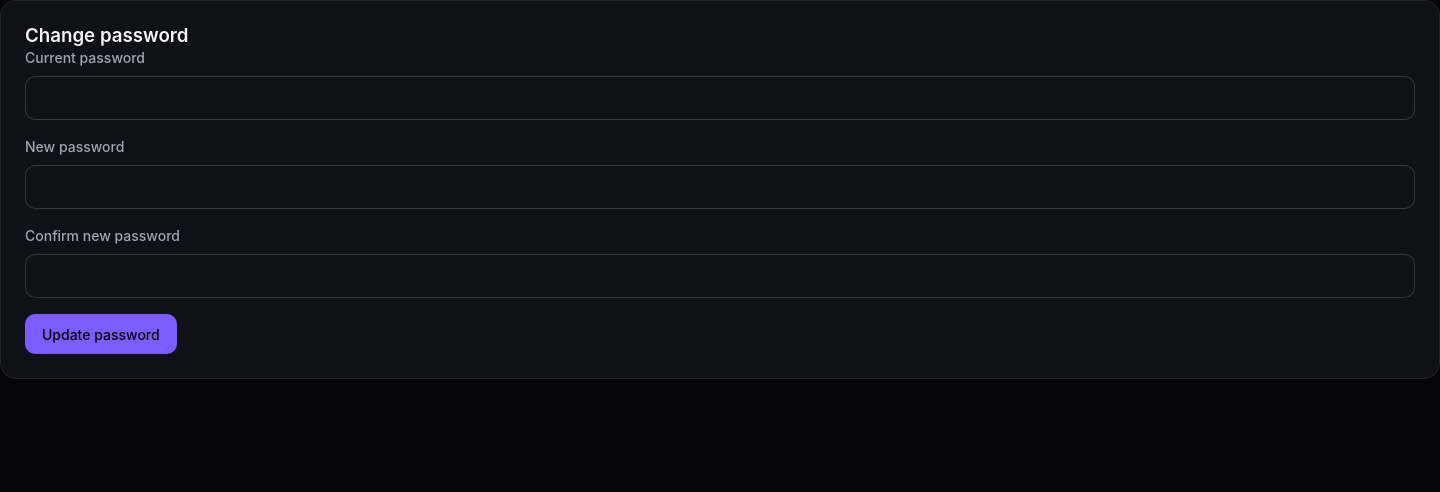
Test: SecuritySection › changes the password successfully and clears the fields
Type "OldPassw0rd!" into the password field labelled "Current password". click: (720, 98)
box: [25, 76, 1415, 120]
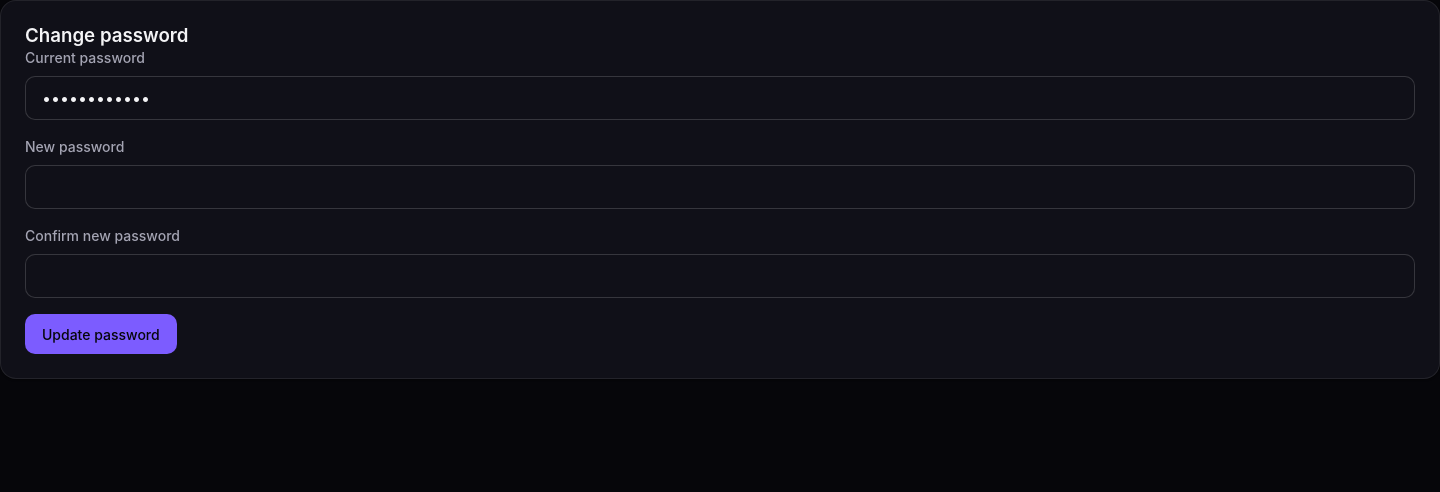
Type "N3wSup3r$ecretPassw0rd!" into the password field labelled "New password". click: (720, 188)
box: [25, 166, 1415, 210]
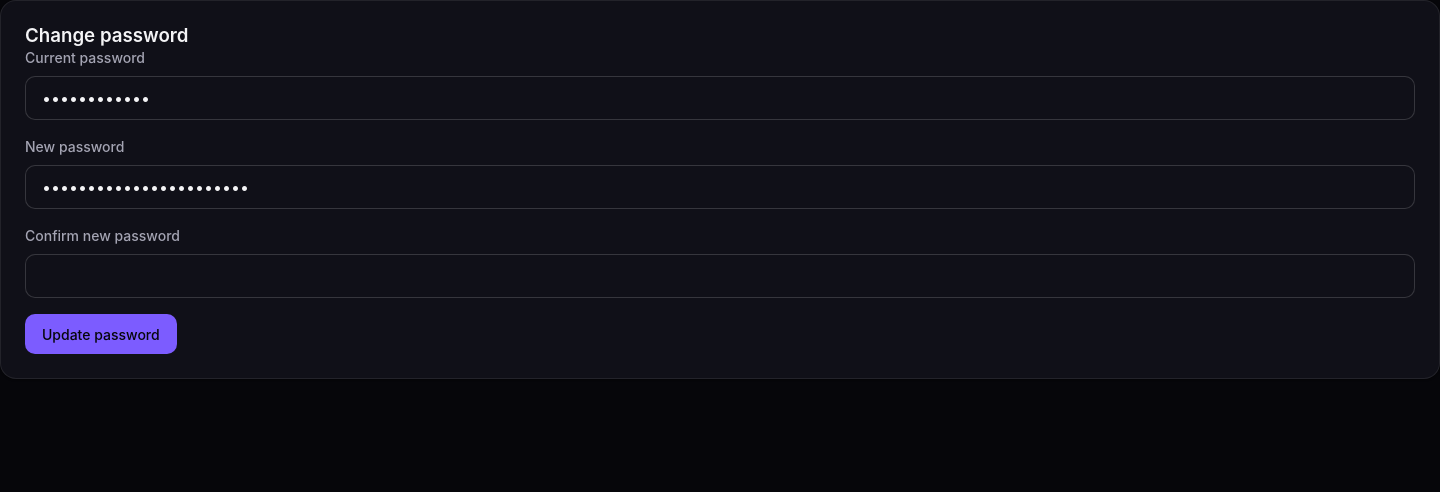
Type "N3wSup3r$ecretPassw0rd!" into the password field labelled "Confirm new password". click: (720, 276)
box: [25, 254, 1415, 298]
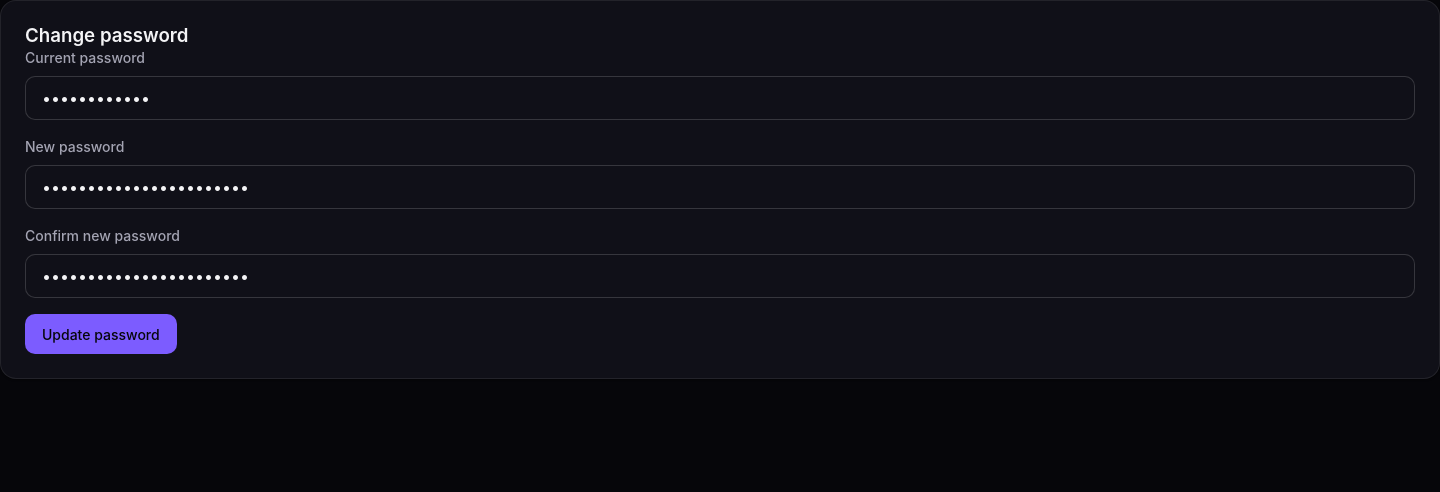
Click the button "Update password". click: (101, 334)
box: [25, 314, 177, 354]
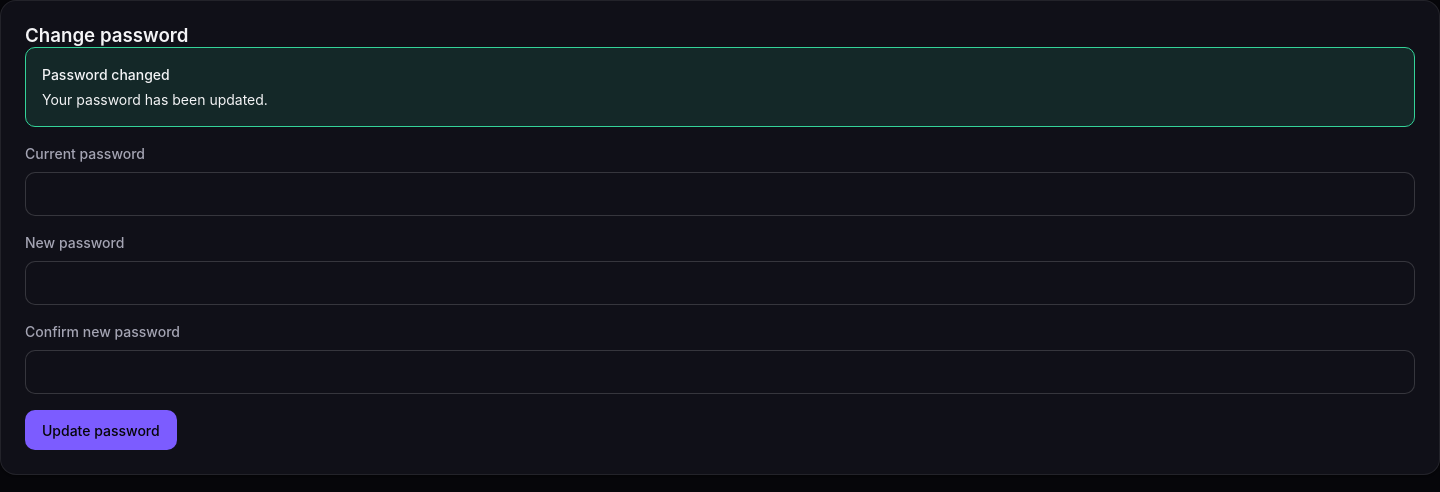
Check: the text "Password changed" is shown, box [42, 66, 170, 84]
Check: the password field labelled "Current password" is empty, box [25, 172, 1415, 216]
